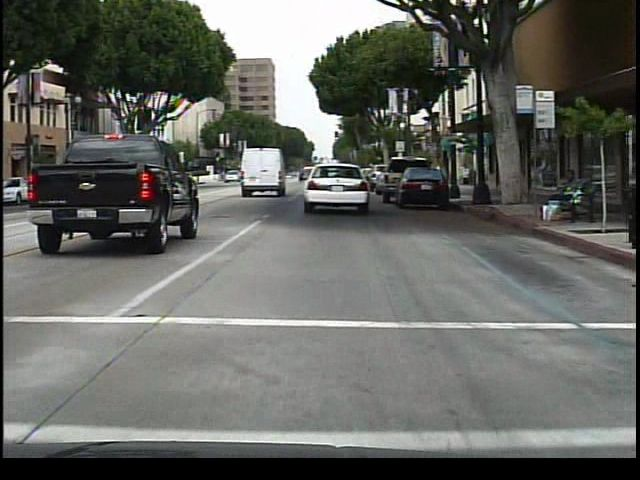car: (22, 115, 195, 260), (297, 158, 371, 213), (394, 167, 448, 211), (237, 152, 285, 198)
